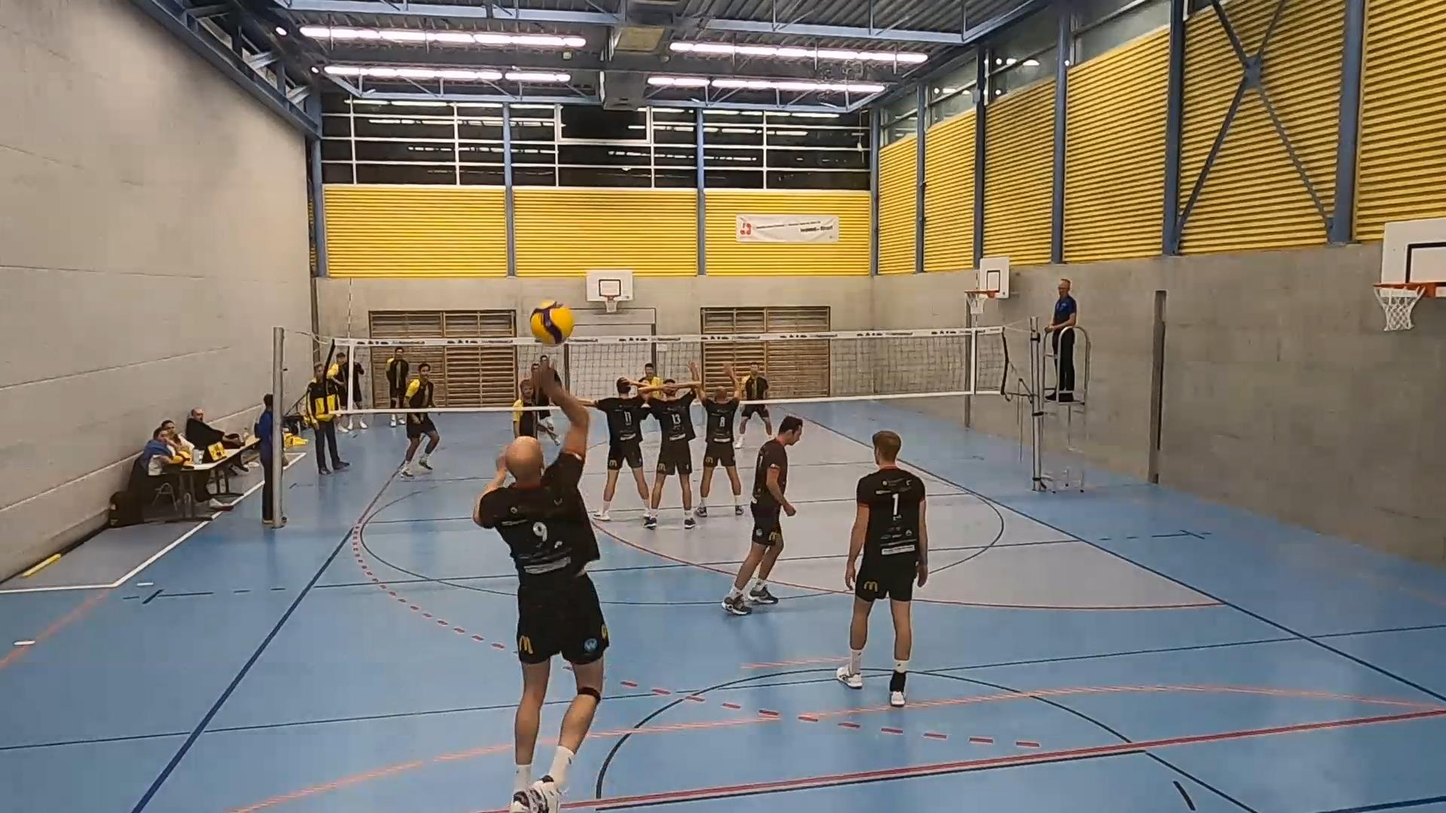Player: (837, 431, 927, 706), (723, 416, 803, 614), (638, 363, 701, 528), (584, 378, 650, 520), (695, 365, 743, 517), (401, 362, 439, 477), (734, 363, 773, 447), (513, 379, 557, 443), (513, 379, 538, 437), (635, 363, 663, 387), (535, 391, 551, 405)
Serve: (472, 366, 615, 813)
ball: (529, 301, 578, 344)
